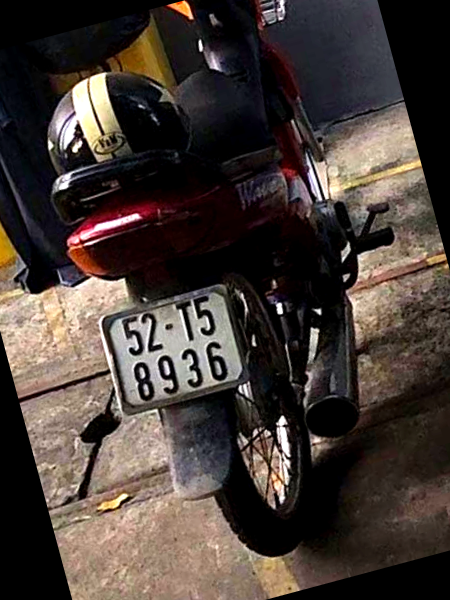number: (100, 284, 244, 409)
